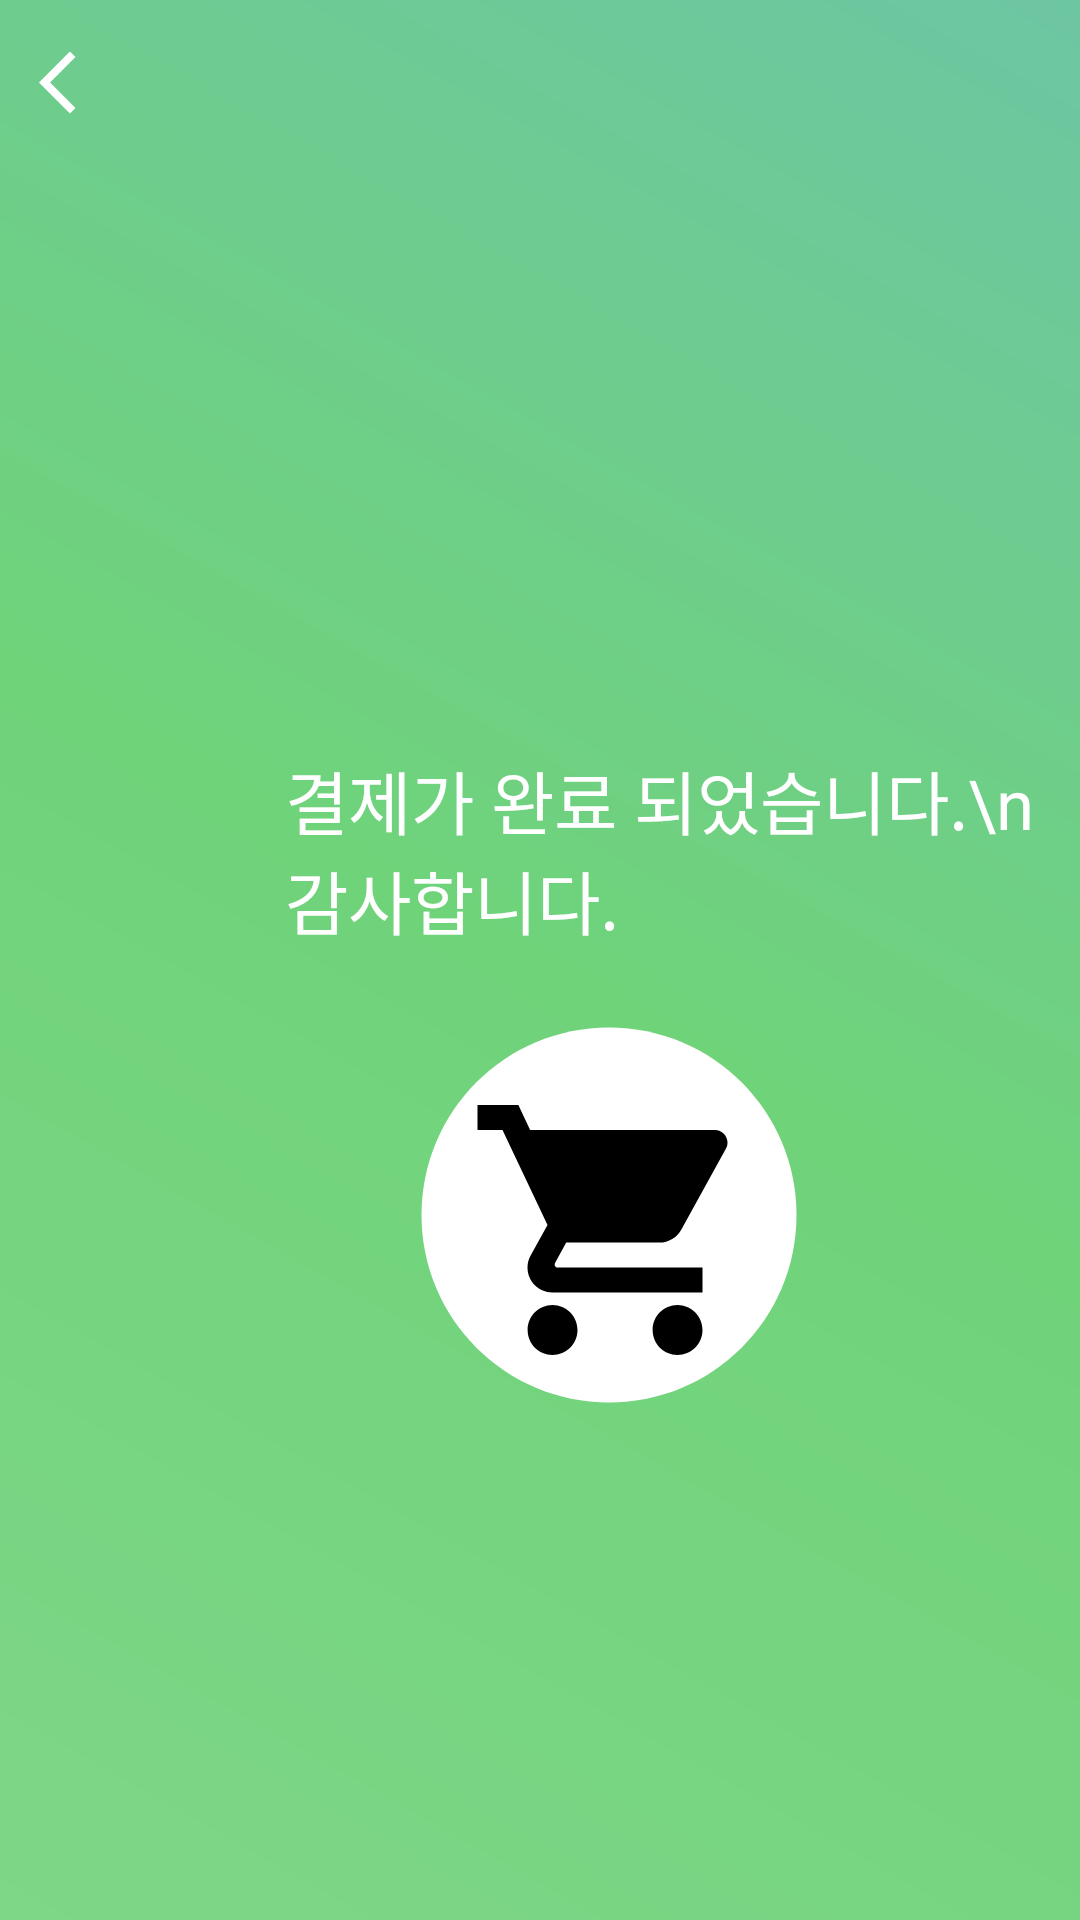

Icon click points for this 1080 x 1920 phone screenshot, format (x=x, y=y):
arrow back: (x=57, y=82)
